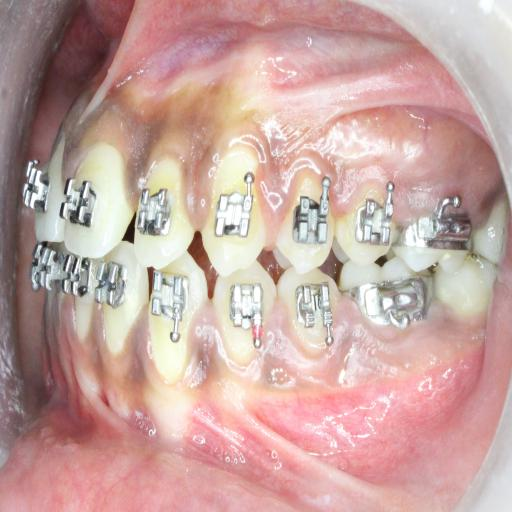correct_brace: (276, 167, 332, 275), (213, 172, 255, 252), (136, 182, 176, 248), (62, 172, 97, 230)
incorrect_brace: (130, 148, 196, 266), (289, 174, 332, 251)
